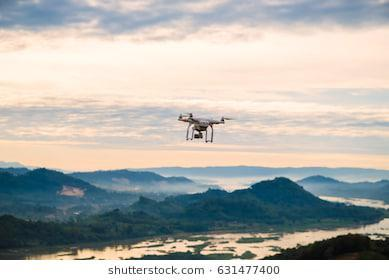drone: (176, 110, 234, 146)
